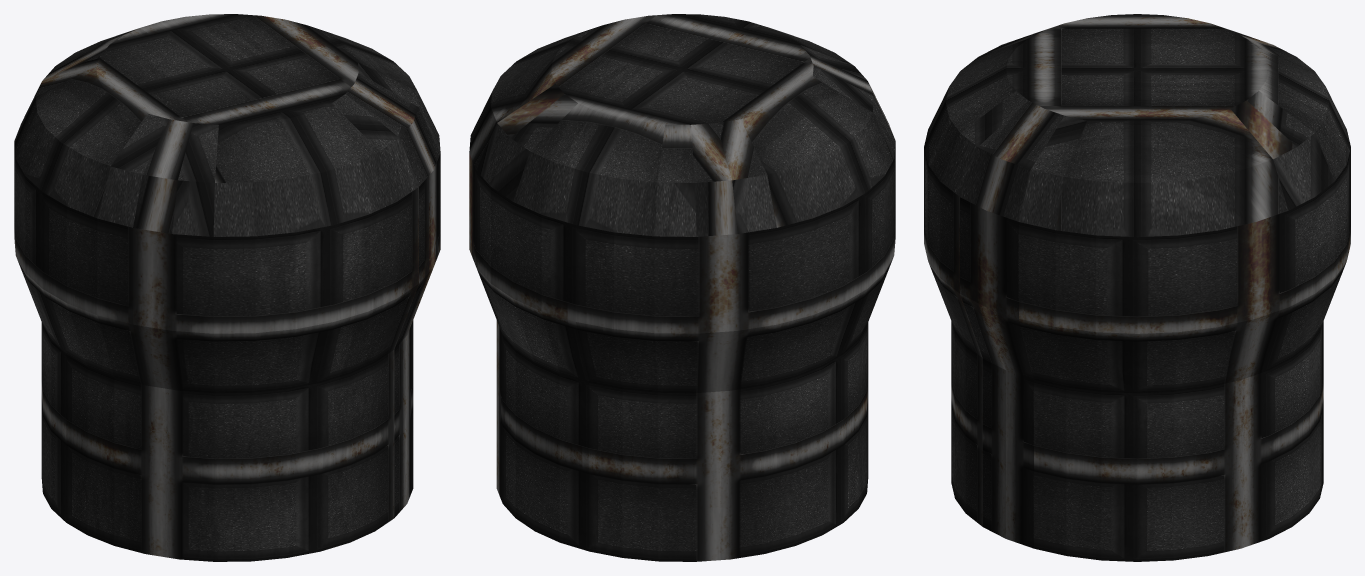
File: Silo.fbx
3 views of the same model, side by side, from view 1: azimuth 30°, elevation 25°; view 2: azimuth 150°, elevation 25°; view 3: azimuth 270°, elevation 25° (orthographic).
Visible parts, largest first — view 1: Silo; view 2: Silo; view 3: Silo.
Part boxes in pixels (left/top/right/bottom): Silo: left=14, top=14, right=440, bottom=561; Silo: left=469, top=14, right=895, bottom=561; Silo: left=924, top=14, right=1350, bottom=561.
Bounding box in the file's own units: 230 × 245 × 230.
1 material, 1 textured.
